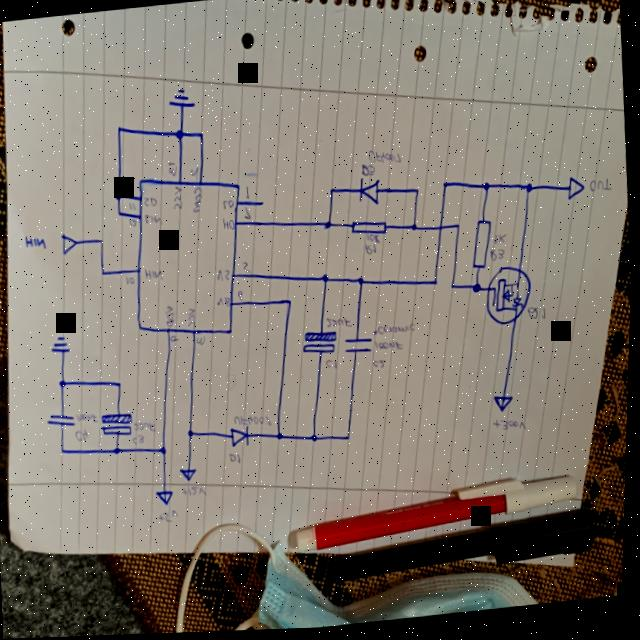capacitor: (303, 331, 340, 362), (101, 411, 137, 440), (345, 337, 374, 360), (48, 411, 78, 430)
crossover: (437, 226, 446, 237)
diode: (357, 178, 382, 209), (231, 426, 252, 452)
ground: (167, 88, 196, 113), (51, 335, 74, 357)
junction: (174, 130, 185, 143), (59, 378, 69, 392), (474, 285, 483, 298), (483, 184, 492, 197), (161, 446, 170, 459), (525, 186, 534, 199), (114, 191, 123, 204), (277, 433, 287, 444), (322, 275, 331, 287), (115, 445, 124, 457), (188, 429, 197, 441), (197, 131, 206, 143), (312, 435, 321, 447), (411, 225, 420, 236), (325, 222, 334, 233), (117, 381, 126, 392), (441, 183, 450, 194), (357, 278, 366, 289), (60, 446, 69, 456), (100, 269, 109, 279), (433, 281, 441, 292), (450, 284, 458, 295), (329, 188, 337, 198), (455, 225, 463, 235), (117, 209, 125, 219), (346, 436, 354, 445), (100, 237, 107, 247), (414, 190, 421, 199), (116, 126, 123, 135), (287, 301, 294, 309)
resistor: (469, 222, 495, 274), (351, 221, 389, 240)
source: (156, 489, 177, 509), (495, 398, 516, 417), (180, 467, 200, 485)
terminal: (567, 178, 587, 206), (61, 232, 80, 258)
text: (367, 149, 403, 172), (375, 323, 419, 341), (235, 414, 275, 432), (494, 420, 529, 437), (375, 340, 407, 357), (326, 316, 353, 333), (183, 486, 211, 501), (25, 234, 48, 252), (590, 182, 613, 198), (160, 510, 181, 526), (192, 188, 204, 216), (135, 421, 159, 435), (171, 188, 184, 213), (145, 267, 165, 283), (529, 309, 549, 325), (187, 306, 200, 330), (165, 304, 177, 329), (490, 250, 507, 267), (144, 213, 163, 228), (79, 412, 100, 425), (217, 269, 232, 284), (222, 218, 237, 233), (77, 428, 92, 443), (362, 165, 377, 180), (493, 236, 509, 250), (144, 196, 158, 210), (373, 360, 388, 373), (326, 360, 339, 375), (217, 297, 232, 310), (367, 235, 382, 248), (167, 161, 178, 178), (222, 200, 236, 213), (230, 454, 244, 467), (365, 245, 378, 258), (135, 434, 148, 446), (191, 168, 200, 183), (126, 276, 137, 288), (243, 210, 254, 222), (237, 291, 247, 302), (172, 335, 182, 346), (129, 219, 139, 230), (199, 337, 208, 349), (242, 262, 251, 274), (129, 202, 137, 213), (246, 188, 251, 202)
transistor: (484, 267, 536, 332)
